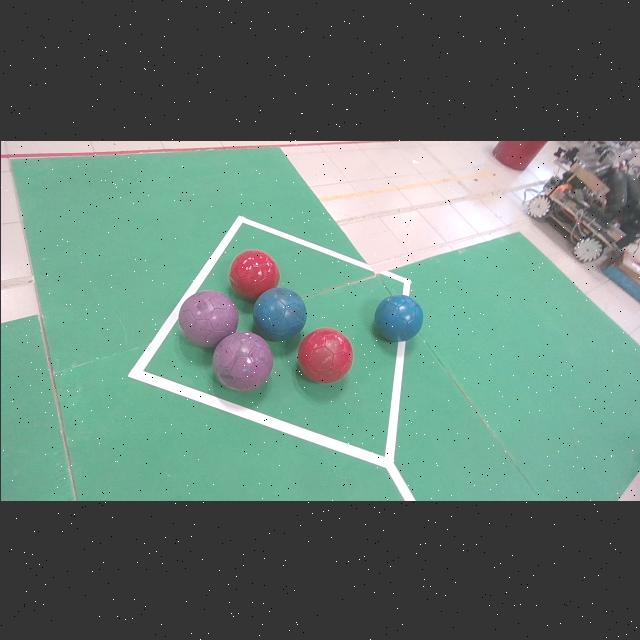B: (252, 286, 306, 340), (374, 294, 422, 341)
P: (211, 331, 272, 390), (178, 289, 238, 346)
R: (298, 328, 352, 382), (229, 249, 279, 299)
